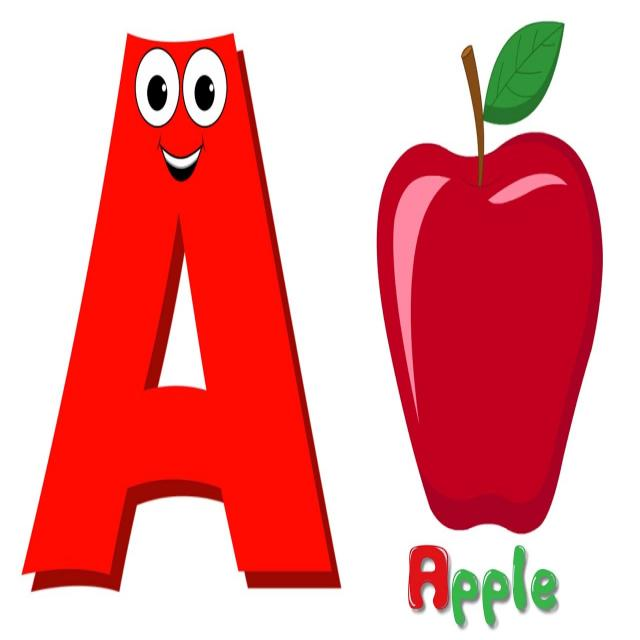A: (14, 18, 348, 625)
